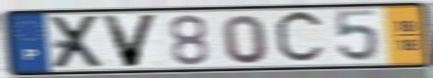0: (219, 11, 271, 66)
5: (333, 8, 382, 65)
8: (168, 13, 210, 67)
C: (271, 8, 328, 67)
V: (97, 12, 163, 69)
X: (48, 13, 108, 71)
